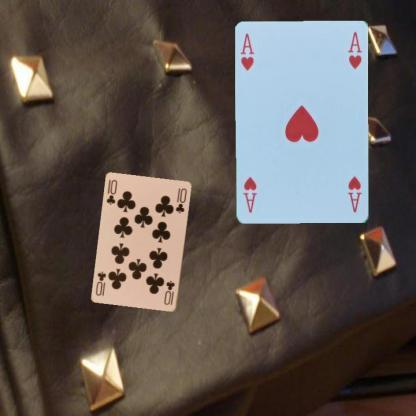10c: (162, 277, 176, 306), (104, 178, 118, 206)
Ah: (238, 30, 256, 72), (345, 173, 363, 214)
